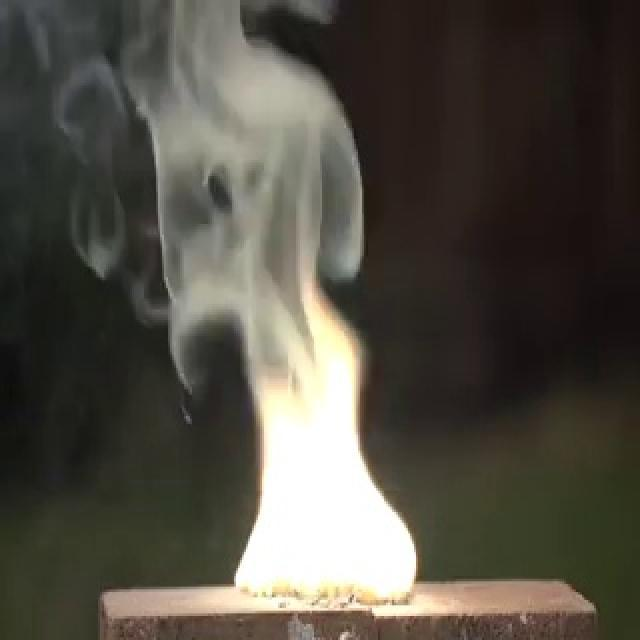fire: (224, 258, 422, 608)
